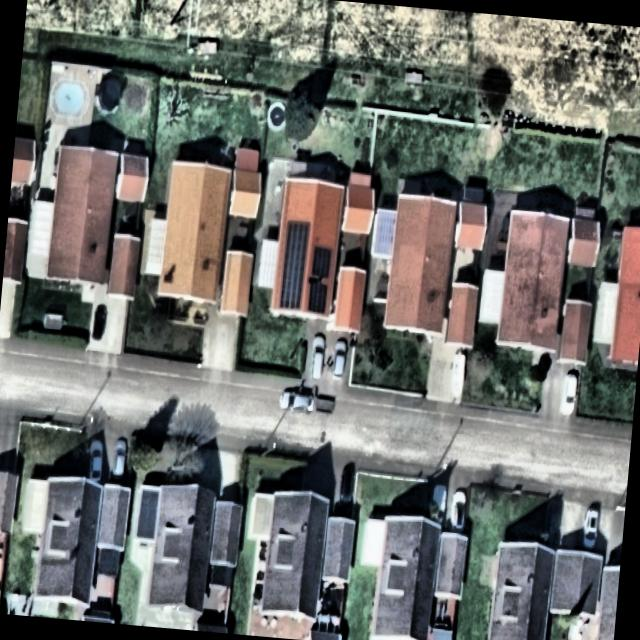roof_pv: (276, 216, 310, 312), (309, 243, 334, 278), (306, 281, 330, 316)
